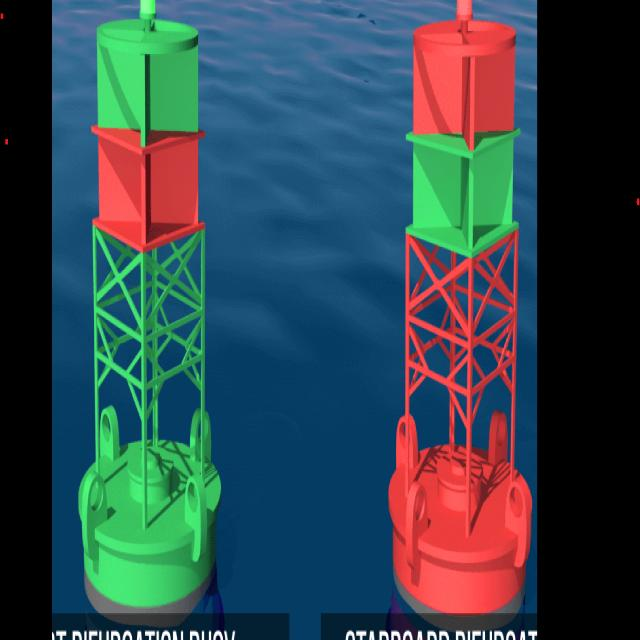marque: (357, 1, 539, 620), (70, 1, 232, 610)
